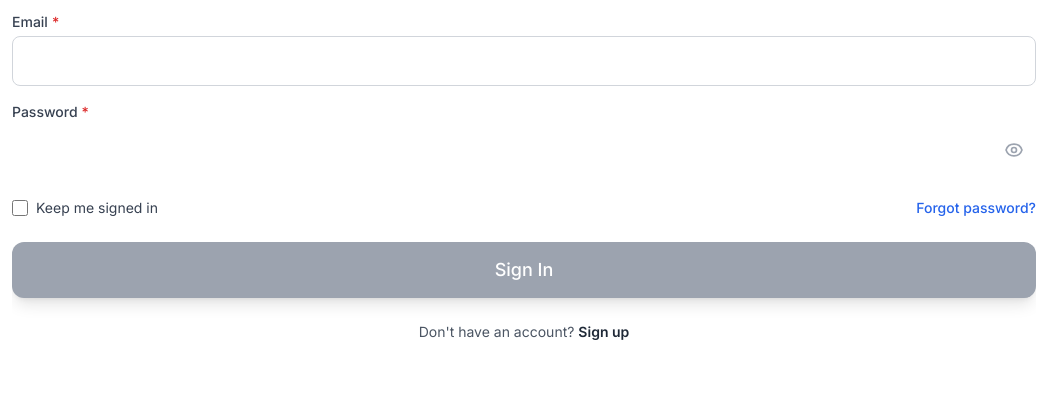
it: LoginForm › displays API error message on authentication failure
In the field labelled "Email*": (524,61) [12,36,1036,86], type "test@example.com"
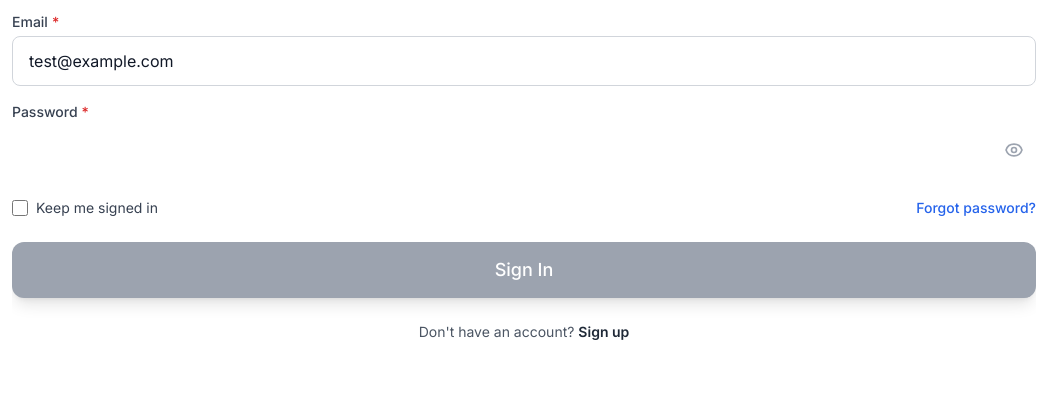
In the password field labelled "Password*": (524,150) [12,126,1036,174], type "wrongpassword"
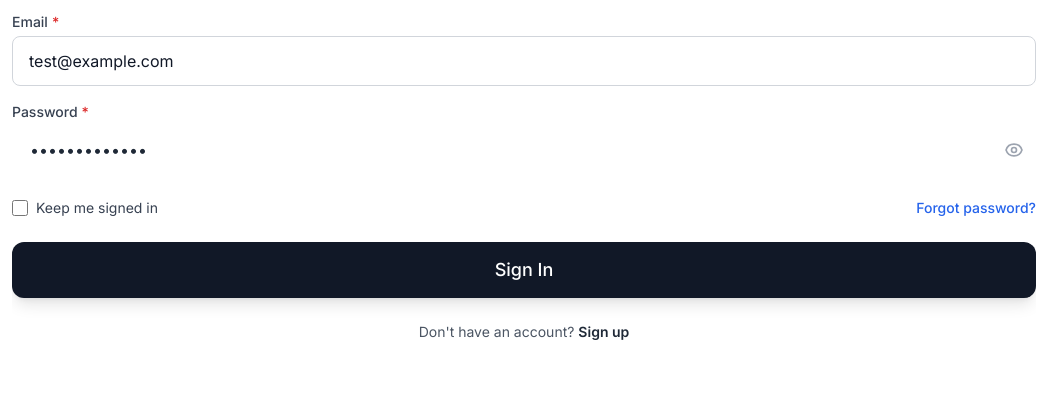
Submit the form
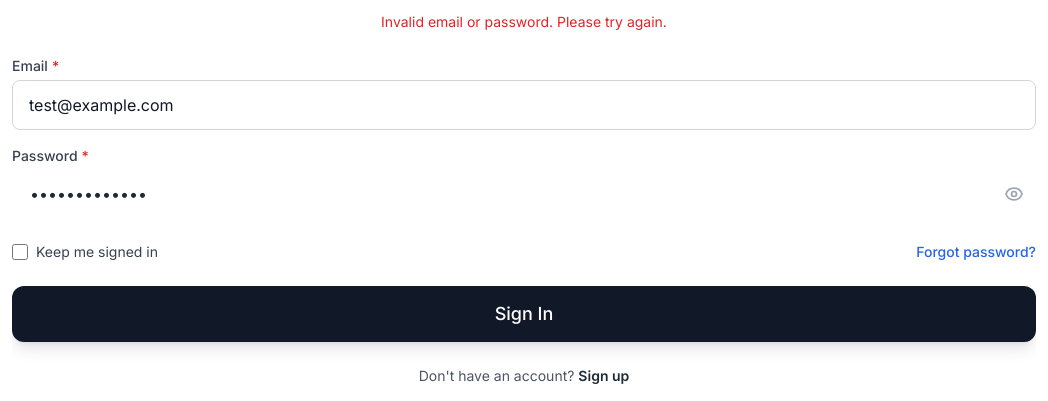
Now the text "Invalid email or password. Please try again." is shown, box [381,13,667,30]
